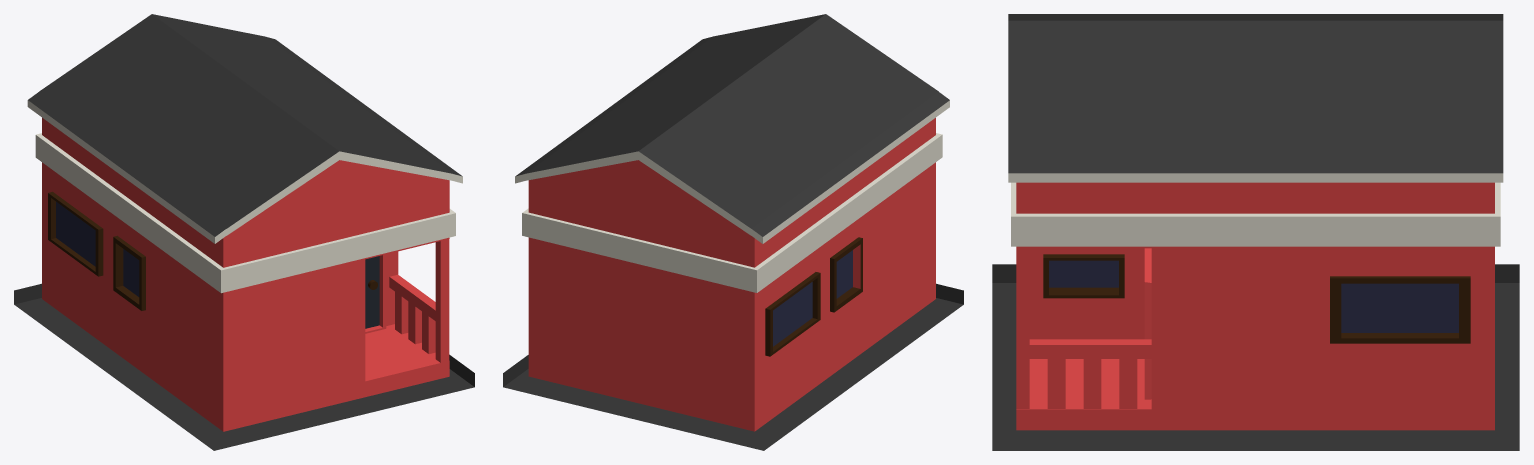
Rendered from house6.fbx.
3 views of the same model, side by side, from view 1: azimuth 30°, elevation 25°; view 2: azimuth 150°, elevation 25°; view 3: azimuth 270°, elevation 25° (orthographic). The views are drawn at different scales.
Visible parts, largest first — view 1: House; view 2: House; view 3: House.
Part boxes in pixels (x1,y1,x2,y2): House: (14, 14, 474, 450); House: (503, 14, 963, 450); House: (992, 14, 1519, 450).
Size of the model in its own units: 649 by 626 by 862.
